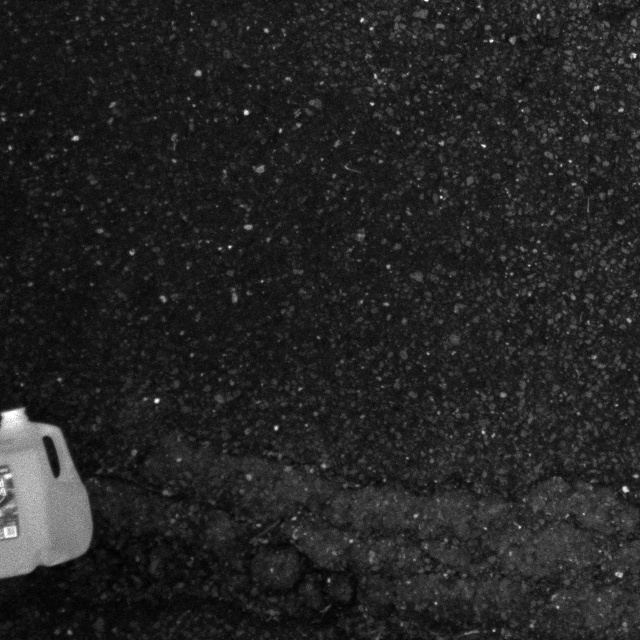can: (0, 389, 97, 583)
